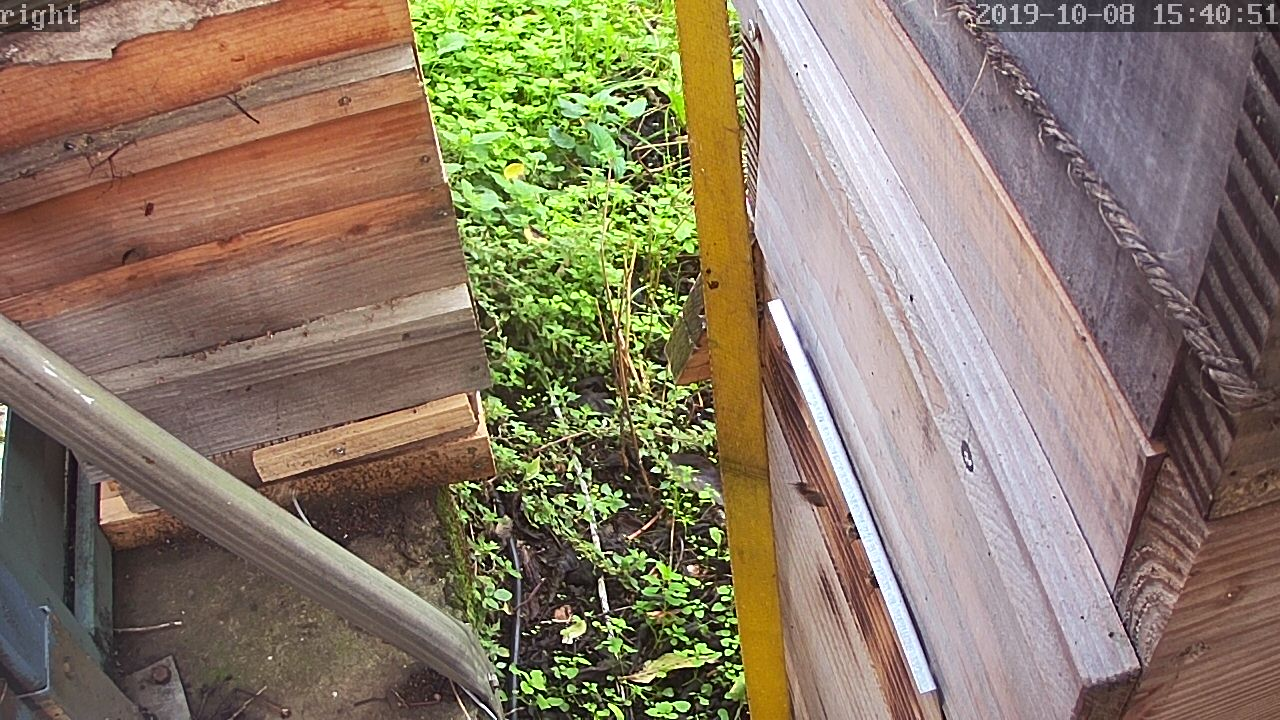hornet: (593, 442, 650, 499), (707, 548, 738, 598)
